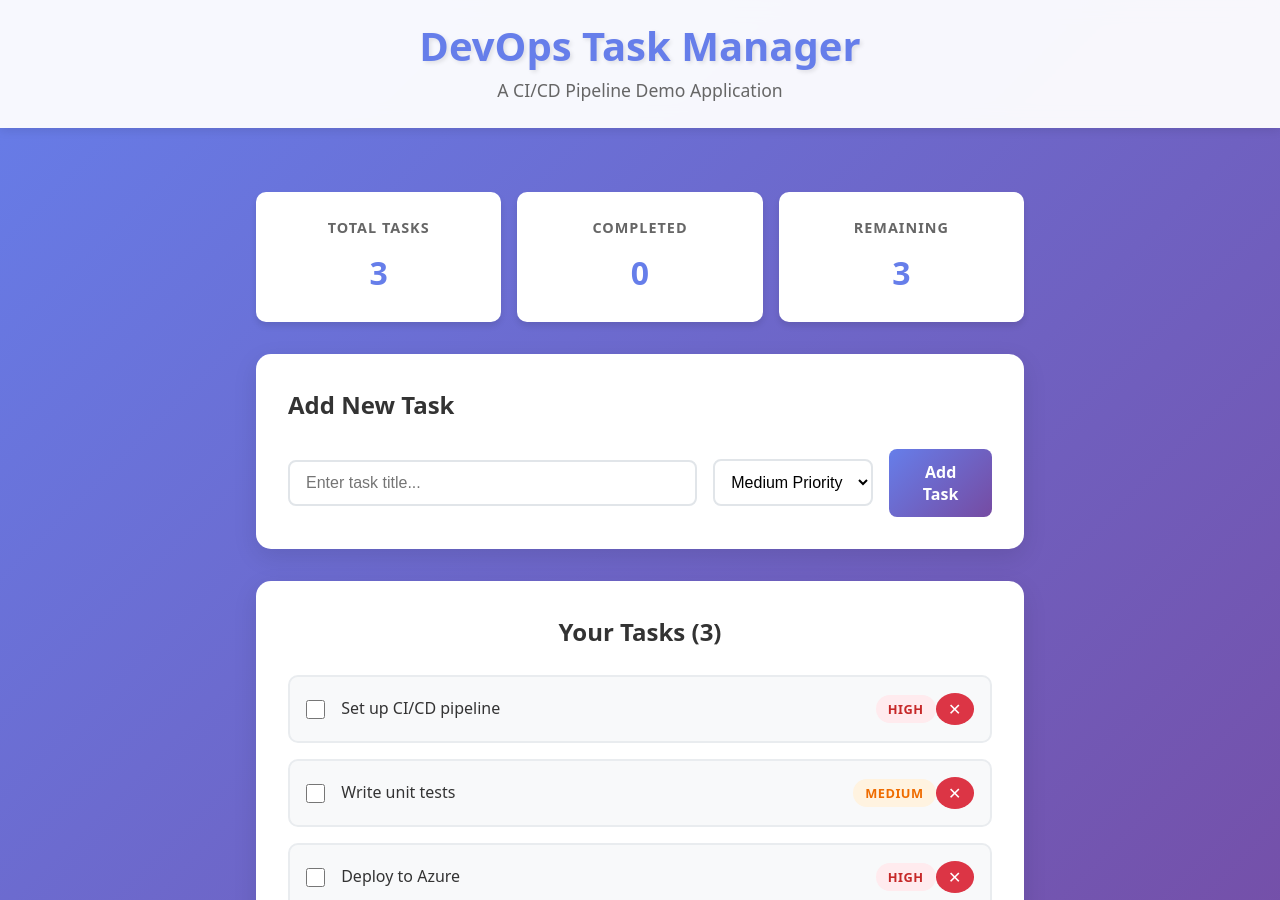
it: App Component › toggles task completion status
Click the checkbox next to "Set up CI/CD pipeline": (316,709) [306,700,325,719]
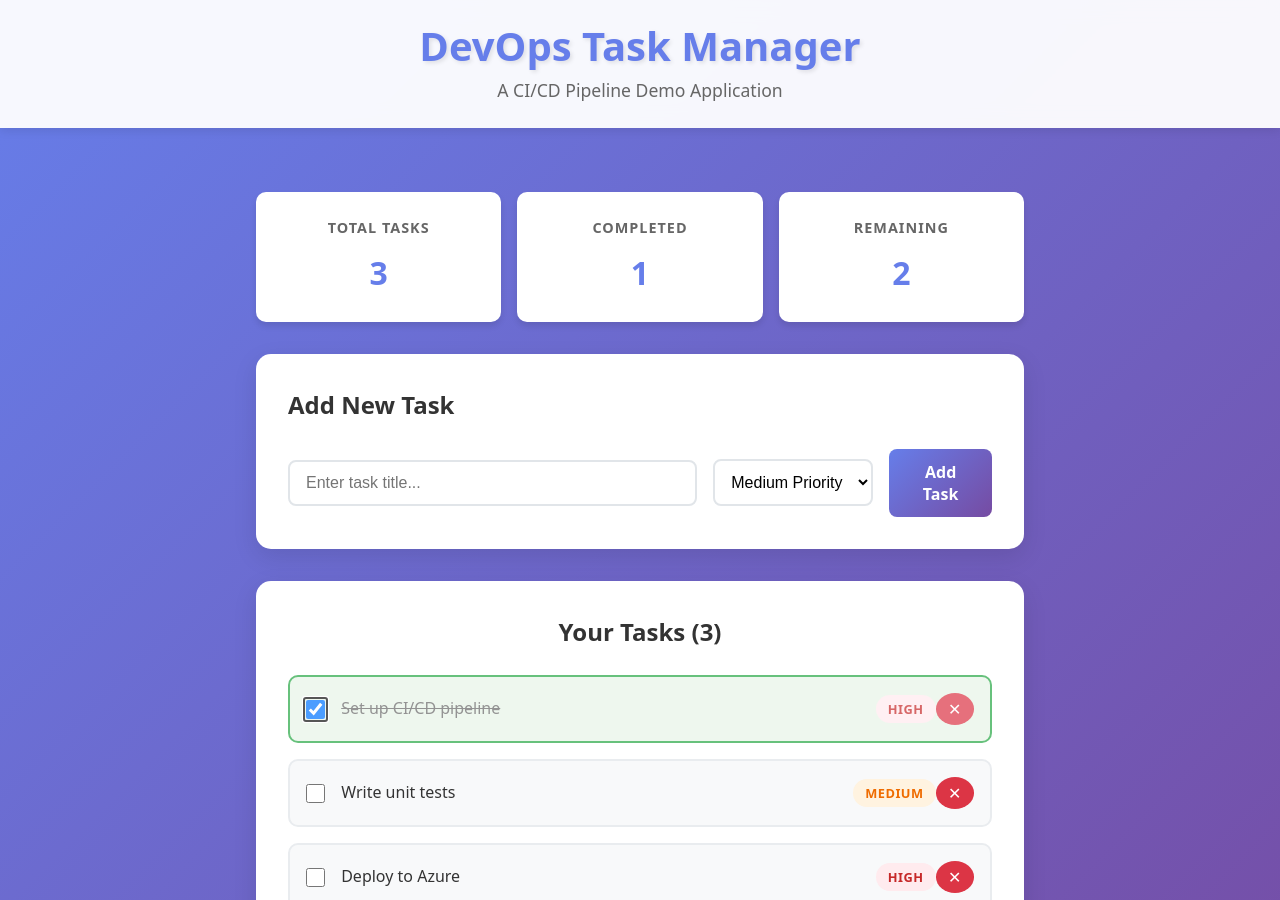
Expected: the checkbox next to "Set up CI/CD pipeline" is checked, [306,700,325,719]
Expected: the text "1" is shown, [631,251,649,294]
